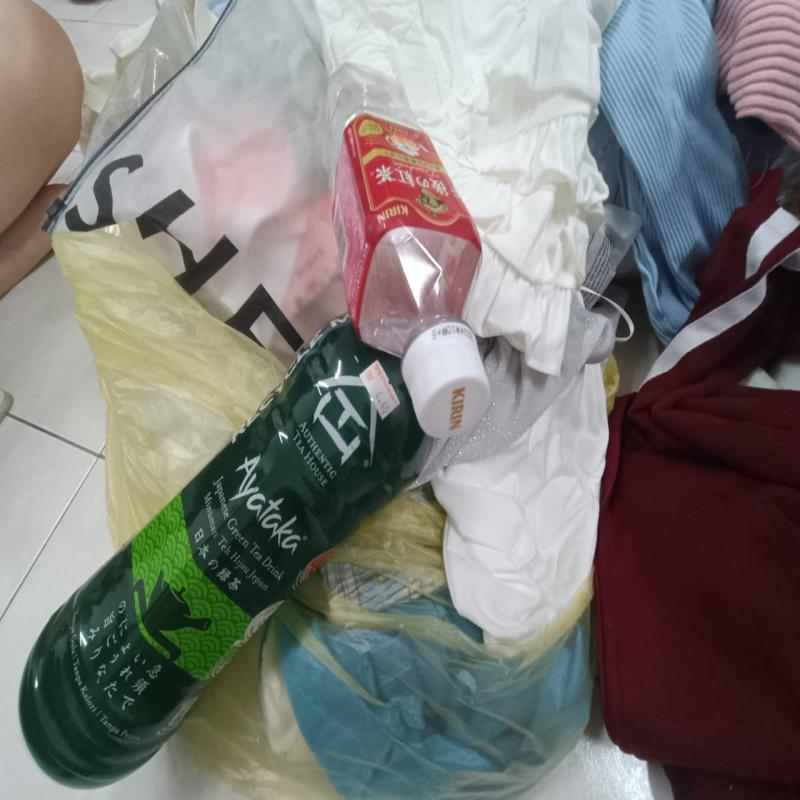botella: (21, 317, 432, 788), (316, 63, 488, 449)
